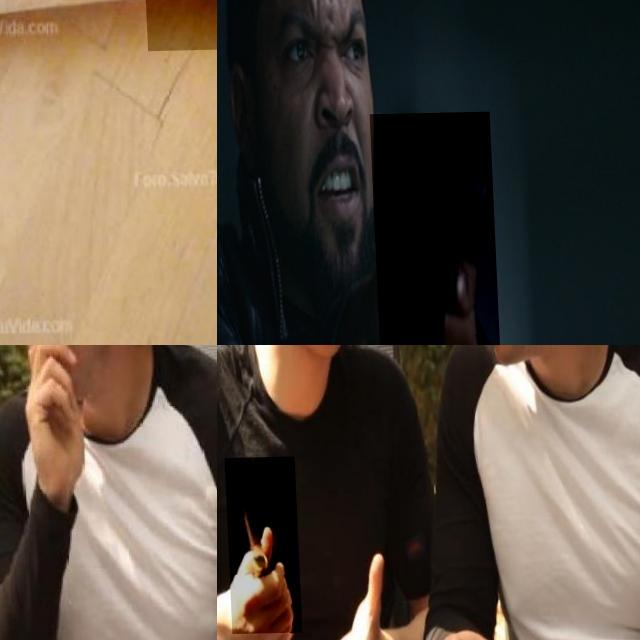-: (222, 458, 298, 635), (134, 0, 217, 153), (0, 543, 92, 640)
gun-knife-thesis - v11 Yolov5 augmented: (367, 113, 499, 345)
